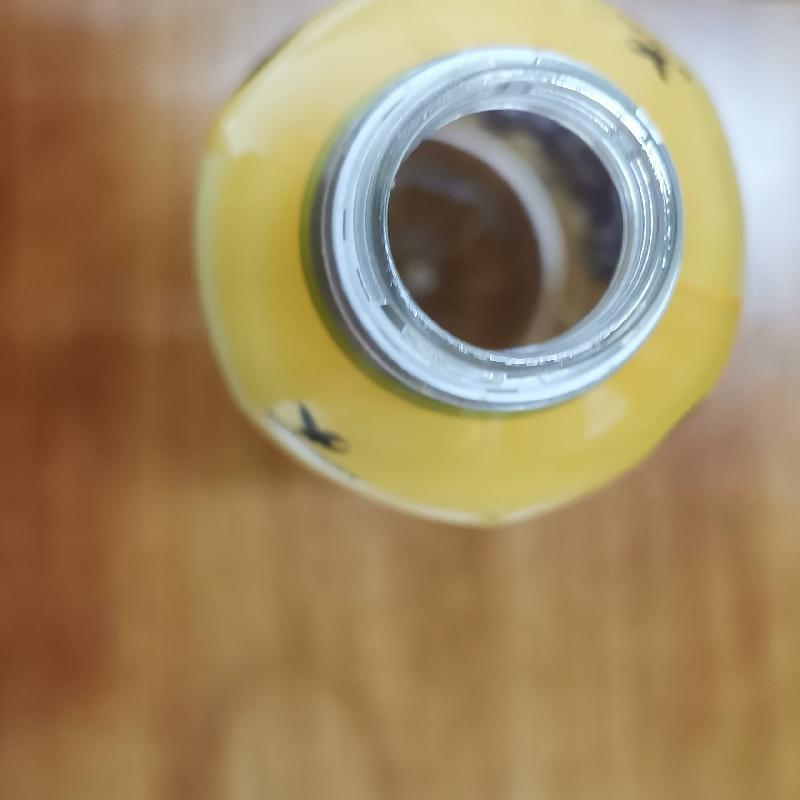bottles: (199, 29, 754, 524)
